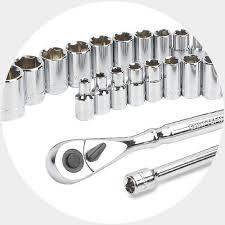wrench: (42, 106, 224, 185)
